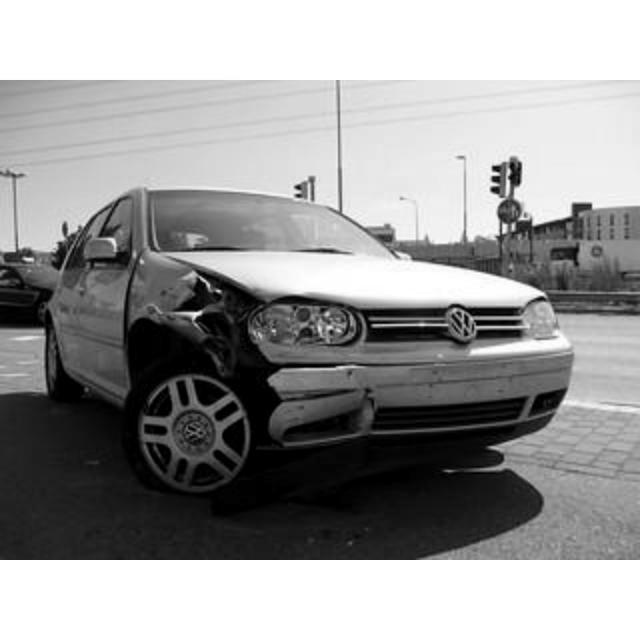Headlight-damage: (246, 286, 370, 358)
fender-dent: (128, 260, 232, 336)
front-bumper-dent: (260, 350, 486, 442)
